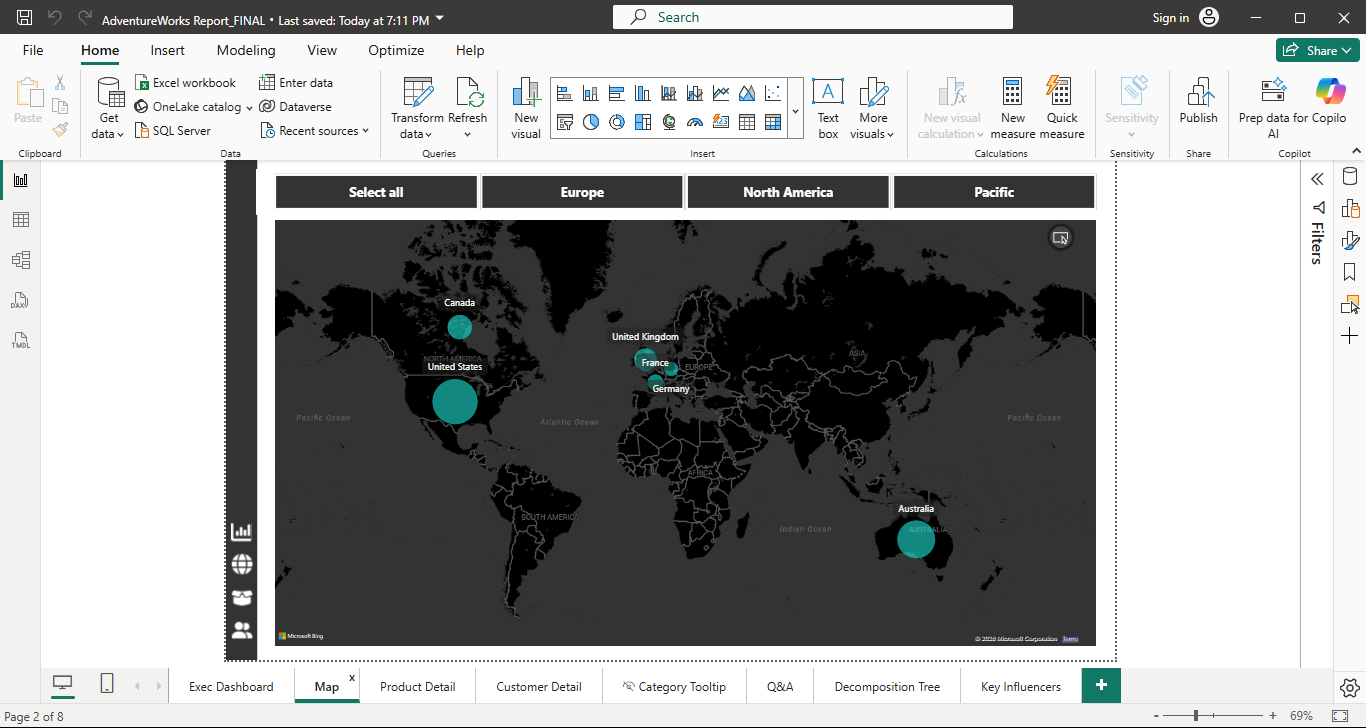

Layout of this report page (visuals, bound fields, positions):
{"tool":"powerbi","page":{"name":"Map","canvas":[1280,720],"ordinal":1},"visuals":[{"type":"shape","box":[0,0,45,720],"z":0},{"type":"actionButton","box":[2.5,516.7,45.6,37.8],"z":0,"group":"g1"},{"type":"map","fields":{"Category":["Territory Lookup.Country"],"Size":["Measure Table.Total Orders"]},"box":[65.6,82.5,1191.3,622.8],"z":1000},{"type":"actionButton","box":[3.3,563.4,45.6,37.8],"z":1000,"group":"g1"},{"type":"slicer","fields":{"Values":["Territory Lookup.Continent"]},"box":[43,13.6,1234.3,65.6],"z":2000},{"type":"actionButton","box":[3.3,611.1,45.6,37.8],"z":2000,"group":"g1"},{"type":"group","id":"g1","title":"Navigation Buttons","box":[2.5,516.7,46.4,178.9],"z":3000},{"type":"actionButton","box":[3.3,657.8,45.6,37.8],"z":3000,"group":"g1"}]}

Visuals, with their boxes on the page's 1280x720 design canvas (x1, y1, x2, y2). These are canvas units, not pixel positions in the 1366x728 screenshot, which may show the page scaled, cropped or inside an application window:
shape: {"left": 0, "top": 0, "right": 45, "bottom": 720}
actionButton: {"left": 2, "top": 517, "right": 48, "bottom": 554}
map - Territory Lookup.Country x Measure Table.Total Orders: {"left": 66, "top": 82, "right": 1257, "bottom": 705}
actionButton: {"left": 3, "top": 563, "right": 49, "bottom": 601}
slicer - Territory Lookup.Continent: {"left": 43, "top": 14, "right": 1277, "bottom": 79}
actionButton: {"left": 3, "top": 611, "right": 49, "bottom": 649}
"Navigation Buttons" group: {"left": 2, "top": 517, "right": 49, "bottom": 696}
actionButton: {"left": 3, "top": 658, "right": 49, "bottom": 696}
